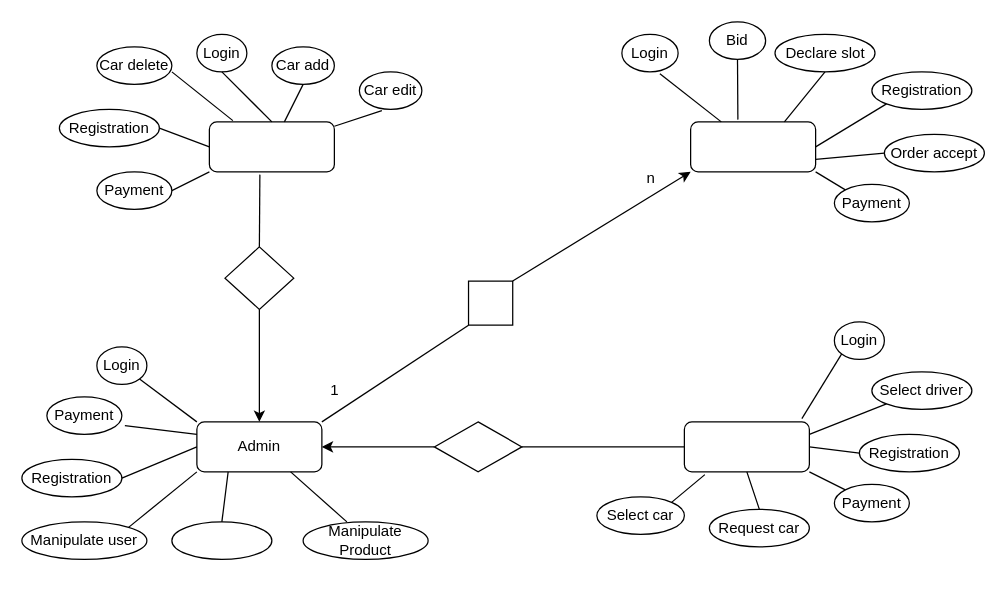
This 1006x591 diagram has some shape labels left out. The box of each missing label's shape, as (x1, y1, x2, y2) in pixels:
Car Owner: (208, 121, 334, 172)
Customer: (683, 421, 809, 472)
Driver: (689, 121, 816, 172)
give rent: (224, 246, 294, 309)
has to: (445, 257, 535, 348)
take rent: (433, 421, 522, 472)
Verify profile: (171, 521, 272, 559)
